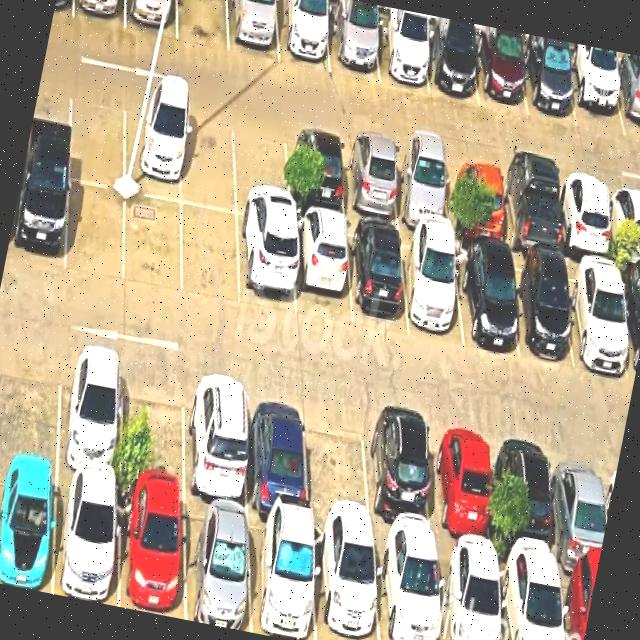empty: (306, 397, 372, 534), (122, 358, 185, 498), (0, 335, 61, 469), (66, 181, 126, 282), (233, 116, 289, 224), (69, 83, 125, 189), (125, 193, 181, 297), (182, 205, 240, 305), (181, 107, 236, 212), (177, 0, 229, 52)
occupied: (364, 408, 435, 546), (57, 344, 122, 484), (183, 500, 251, 633), (429, 418, 493, 558), (119, 487, 185, 620), (53, 474, 118, 607), (186, 371, 248, 510), (249, 513, 315, 640), (247, 383, 308, 519), (500, 430, 558, 567), (564, 260, 630, 376), (313, 524, 379, 640), (453, 245, 519, 358), (552, 440, 608, 573), (0, 464, 57, 594), (506, 254, 573, 363), (401, 233, 464, 347), (374, 539, 442, 640), (348, 222, 409, 333), (6, 166, 69, 272), (293, 213, 352, 325), (125, 95, 183, 202), (437, 547, 503, 640), (499, 165, 561, 258), (237, 217, 295, 316), (498, 558, 564, 640), (286, 127, 345, 217), (446, 156, 505, 245), (342, 136, 400, 225), (565, 51, 625, 137), (392, 145, 451, 232), (557, 175, 613, 262), (522, 40, 577, 126), (474, 31, 528, 115), (423, 26, 479, 105), (374, 16, 429, 93), (276, 0, 330, 73), (328, 7, 379, 81), (228, 0, 279, 63), (558, 568, 597, 640), (607, 183, 640, 265), (618, 269, 640, 381), (610, 59, 640, 139), (125, 0, 177, 39), (73, 0, 125, 29)
